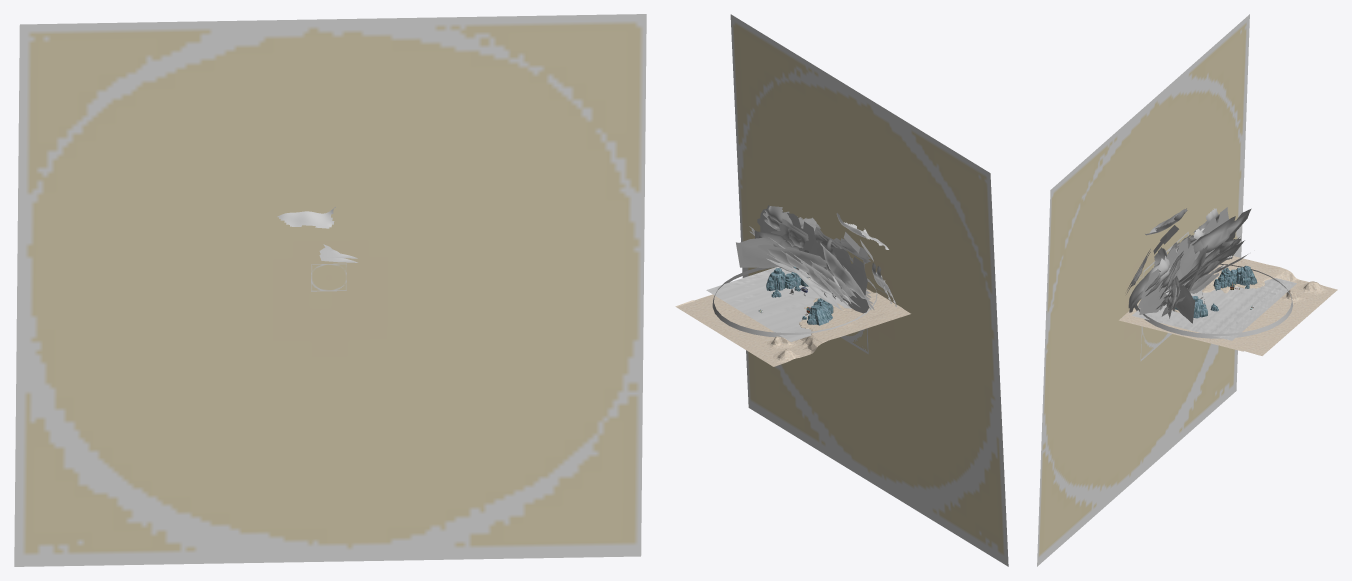
Rendered from Lobby_Env.fbx.
The picture shows the model from 3 angles, left to right: view 1: azimuth 30°, elevation 25°; view 2: azimuth 150°, elevation 25°; view 3: azimuth 270°, elevation 25°; orthographic projection. The views are drawn at different scales.
Visible parts, largest first — view 1: Sun Shaft, Sun, Cloud004 (2); view 2: Sun Shaft (×2), Ground000, wave001 (×3), LobbyCloud11 (×3), LobbyCloud02, Sky_Inner, LobbyGround_04, LobbyCloud11 (1), LobbyGround_02, Cloud005; view 3: Sun Shaft (×2), wave001 (×3), Ground000, LobbyCloud11 (×2), LobbyCloud11 (1), Sky_Inner, LobbyGround_02, Cloud005, LobbyCloud02.
Part boxes in pixels (x1,y1,x2,y2): Sun Shaft: [14, 14, 646, 566]; Sun: [311, 263, 346, 291]; Cloud004 (2): [277, 207, 335, 228]; Sun Shaft (×2): [730, 14, 1008, 566]; Ground000: [675, 278, 910, 366]; wave001 (×3): [706, 267, 851, 341]; LobbyCloud11 (×3): [758, 240, 874, 313]; LobbyCloud02: [736, 237, 792, 268]; Sky_Inner: [712, 267, 877, 337]; LobbyGround_04: [766, 266, 808, 291]; LobbyCloud11 (1): [757, 205, 816, 253]; LobbyGround_02: [802, 298, 833, 325]; Cloud005: [763, 206, 820, 228]; Sun Shaft (×2): [1037, 14, 1249, 566]; wave001 (×3): [1132, 278, 1296, 340]; Ground000: [1119, 256, 1337, 355]; LobbyCloud11 (×2): [1181, 207, 1251, 277]; LobbyCloud11 (1): [1138, 238, 1188, 314]; Sky_Inner: [1134, 264, 1293, 338]; LobbyGround_02: [1213, 265, 1257, 290]; Cloud005: [1128, 247, 1169, 307]; LobbyCloud02: [1169, 279, 1195, 323].
Bounding box in the file's own units: 976 × 1000 × 704.
